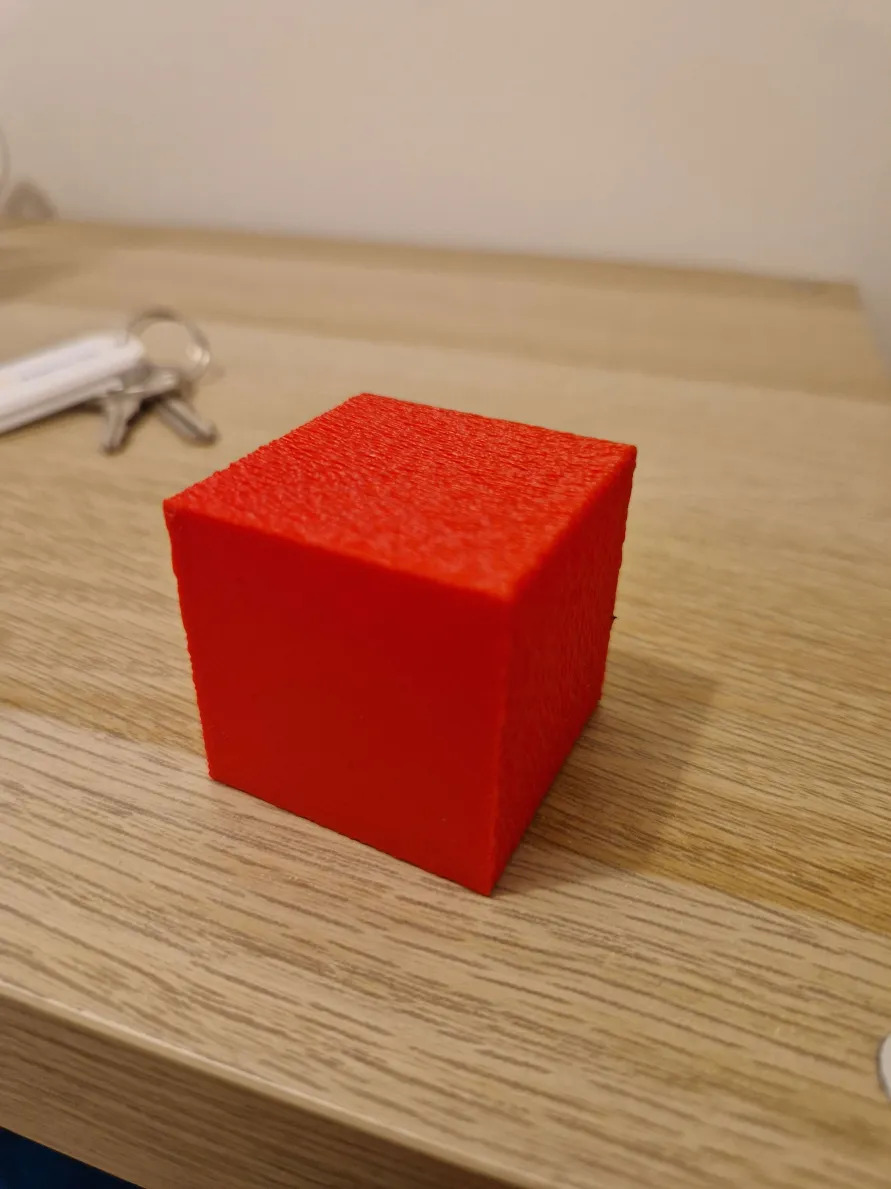cube_rouge: (155, 385, 641, 900)
